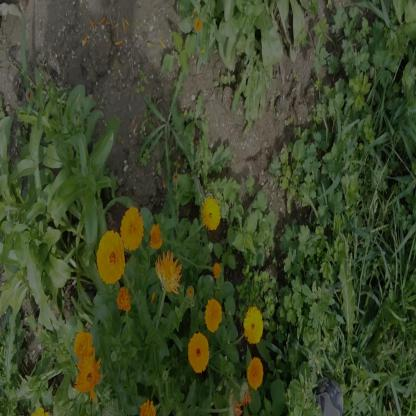marigold: (98, 234, 124, 286), (73, 352, 100, 397), (152, 255, 179, 292), (120, 209, 142, 251), (187, 332, 208, 371), (201, 197, 219, 232), (245, 308, 263, 342), (73, 331, 94, 358), (247, 357, 264, 388), (205, 300, 220, 328), (116, 286, 131, 310), (150, 225, 162, 248)
